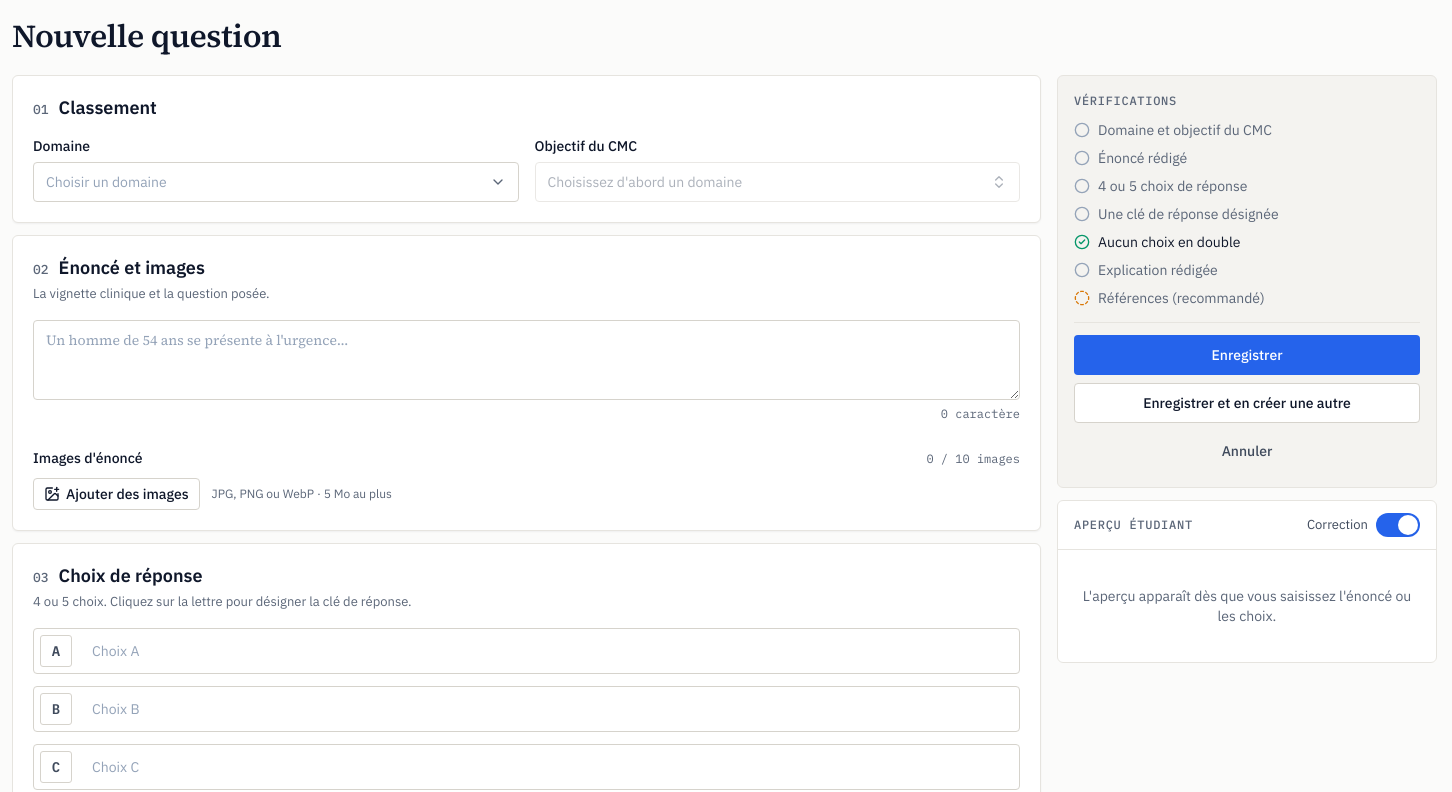
Test: QuestionForm — formulaire incomplet › n'envoie rien et passe les vérifications en échec en erreur
Click the button with test id "btn-save-question". click: coordinates (1247, 355)
box: x1=1074 y1=335 x2=1420 y2=375
(page scrolled)
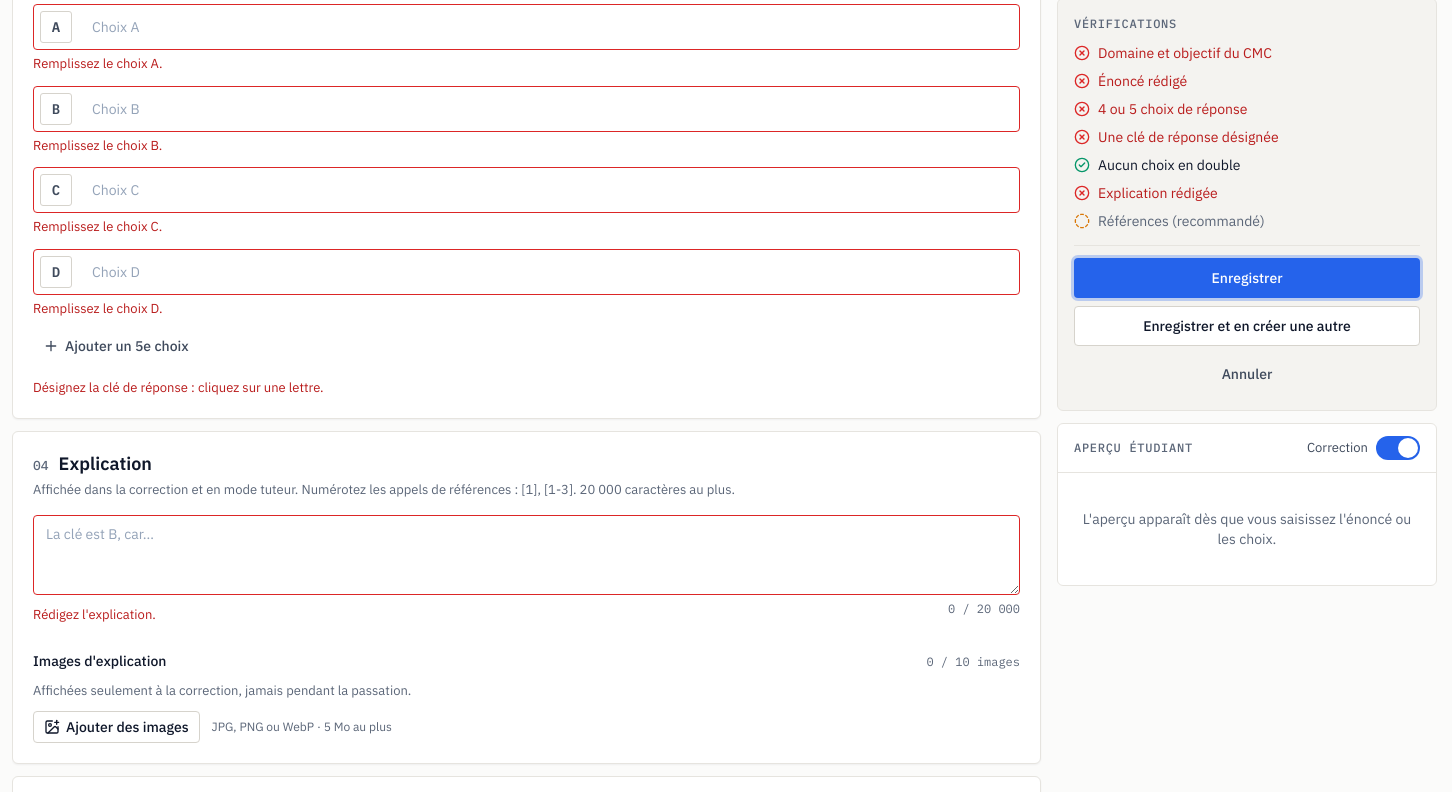
Expected: the list item "Domaine et objectif du CMC" is shown, x1=1073 y1=43 x2=1272 y2=62
Expected: the text "Désignez la clé de réponse : cliquez sur une lettre." is shown, x1=33 y1=379 x2=324 y2=396
